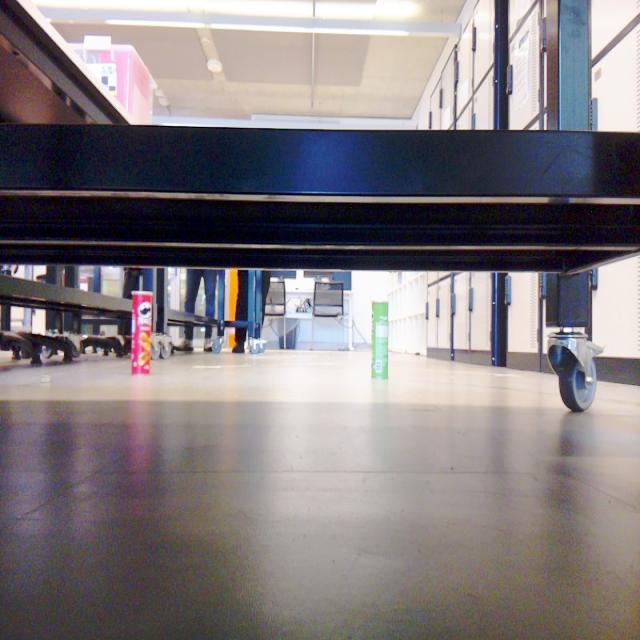greenpringles: (348, 290, 399, 390)
redpringles: (123, 281, 166, 379)
